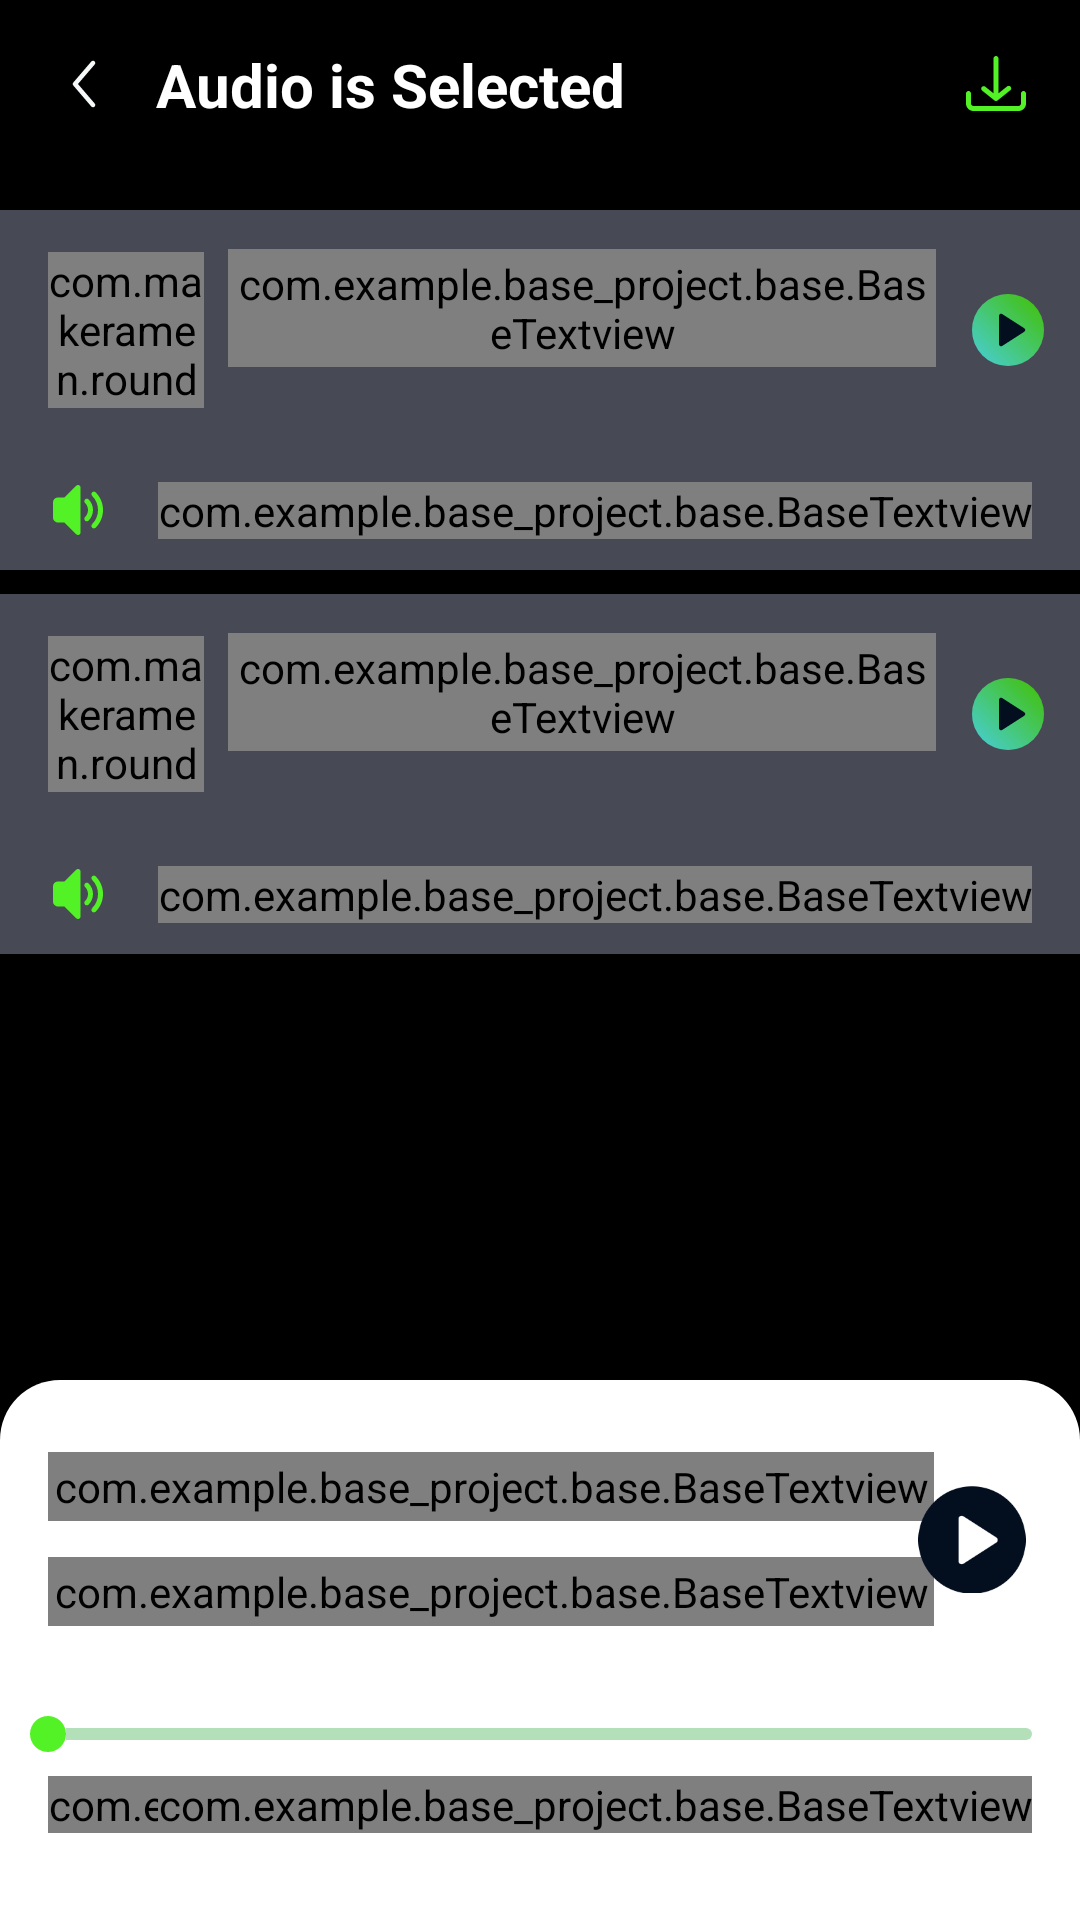

Icons on this 1080*1920 Android screen, each with its box as (x1, y1, x2, y2):
back: (72, 60, 96, 108)
download: (966, 56, 1026, 111)
play: (972, 294, 1044, 366), (972, 678, 1044, 750), (912, 1479, 1026, 1599)
volume: (53, 485, 103, 535), (53, 869, 103, 919)
